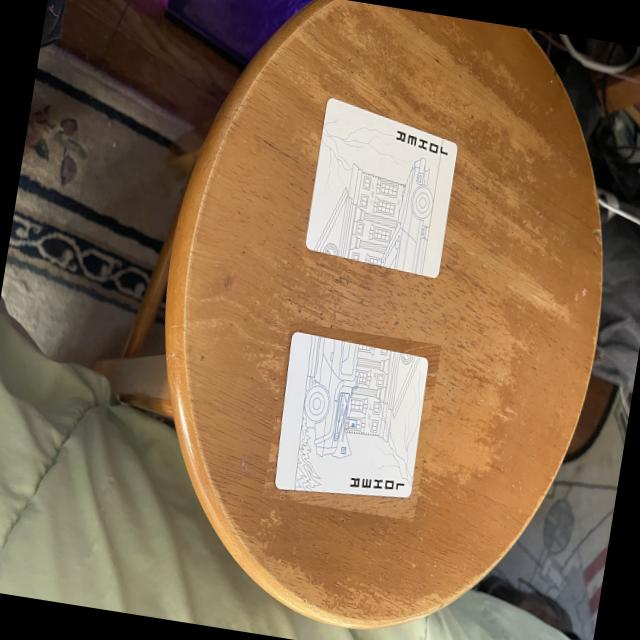Joker: (282, 78, 480, 296), (260, 321, 440, 521)
